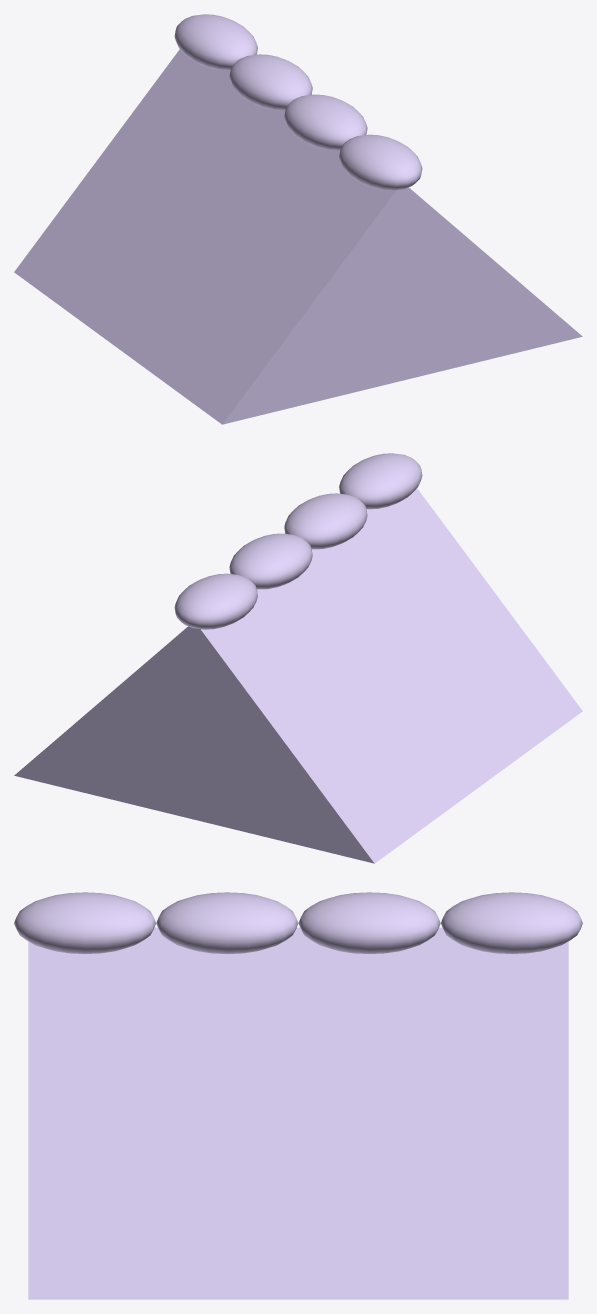
The model's file is roof-lilac.glb.
The picture shows the model from 3 angles, top to bottom: view 1: azimuth 30°, elevation 25°; view 2: azimuth 150°, elevation 25°; view 3: azimuth 270°, elevation 25°; orthographic projection. The views are drawn at different scales.
Parts seen in each view (by area): view 1: gable, ridge_tile (×4); view 2: gable, ridge_tile (×4); view 3: gable, ridge_tile (×4).
Boxes of the visible parts, x1,y1,x2,y2 form: gable: (14,49,582,424); ridge_tile (×4): (174,14,422,190); gable: (14,488,582,863); ridge_tile (×4): (174,453,422,629); gable: (28,927,568,1299); ridge_tile (×4): (14,892,582,953).
Size of the model in its own units: 1.14 by 0.665 by 1.2.
